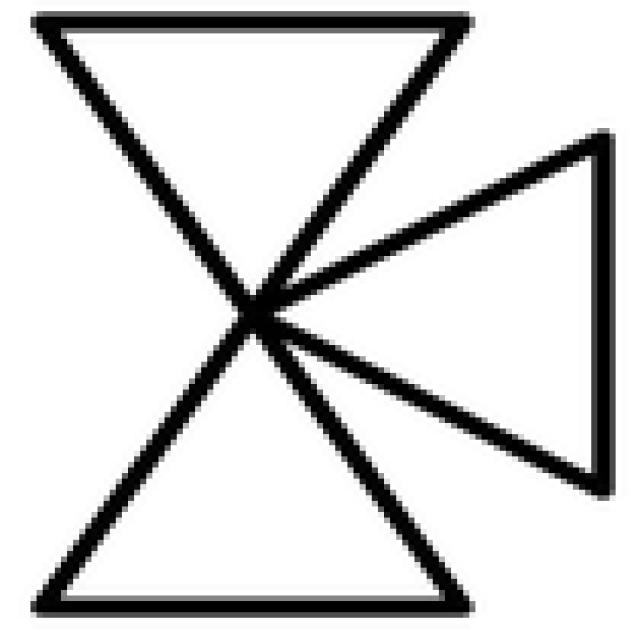3-way Valve: (37, 19, 460, 312), (42, 310, 460, 604), (261, 134, 608, 485)
